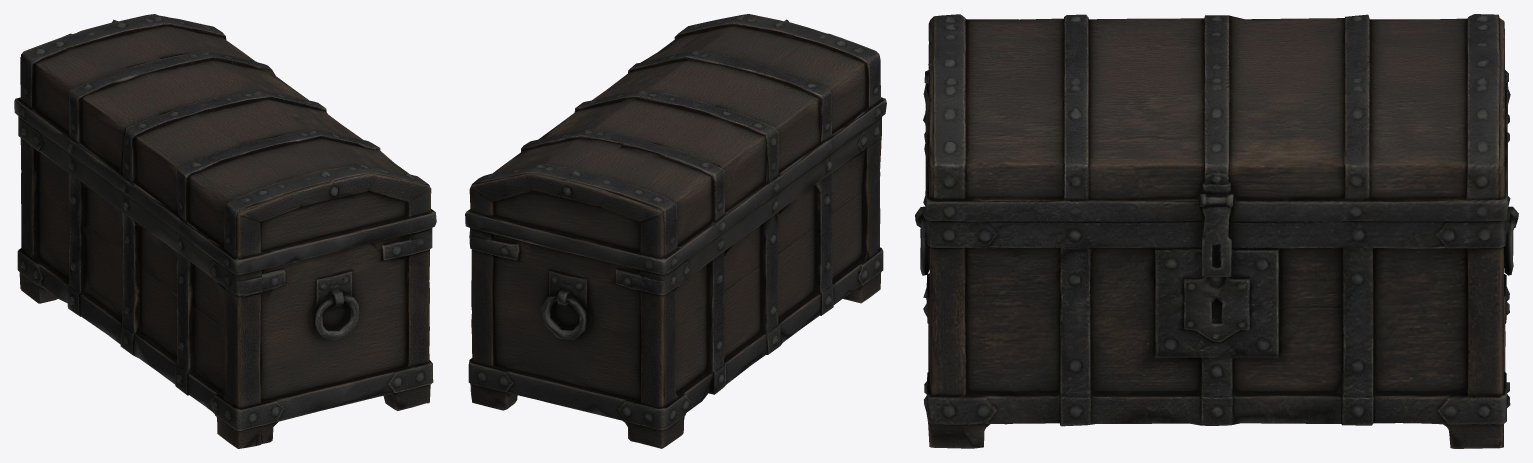
File: storage-chest.glb
The picture shows the model from 3 angles, left to right: view 1: azimuth 30°, elevation 25°; view 2: azimuth 150°, elevation 25°; view 3: azimuth 270°, elevation 25°; orthographic projection. The views are drawn at different scales.
Parts seen in each view (by area): view 1: tripo_node_e0b88d98-2de4-4017-956a-549ba911422a; view 2: tripo_node_e0b88d98-2de4-4017-956a-549ba911422a; view 3: tripo_node_e0b88d98-2de4-4017-956a-549ba911422a.
Boxes of the visible parts, left/top/right/bottom form: tripo_node_e0b88d98-2de4-4017-956a-549ba911422a: left=14, top=14, right=436, bottom=448; tripo_node_e0b88d98-2de4-4017-956a-549ba911422a: left=465, top=14, right=886, bottom=448; tripo_node_e0b88d98-2de4-4017-956a-549ba911422a: left=915, top=14, right=1518, bottom=448.
Bounding box in the file's own units: 0.5265 × 0.5968 × 1.
1 material, 1 textured.
